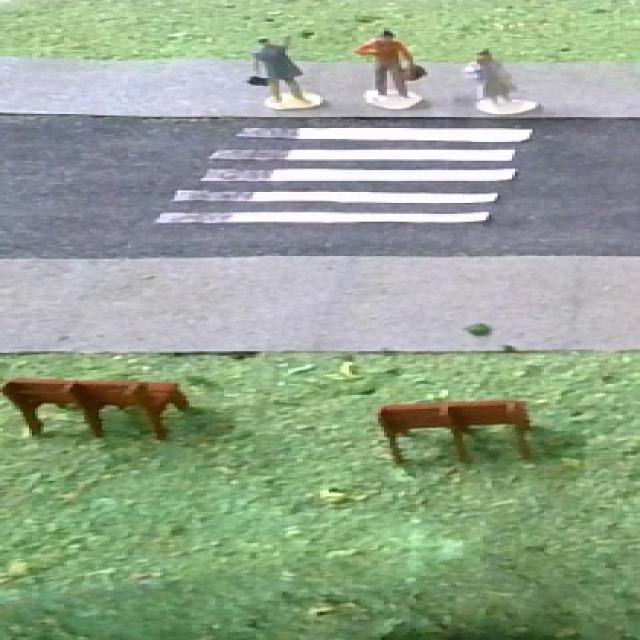person: (233, 31, 334, 114), (346, 24, 439, 112), (455, 43, 545, 116)
